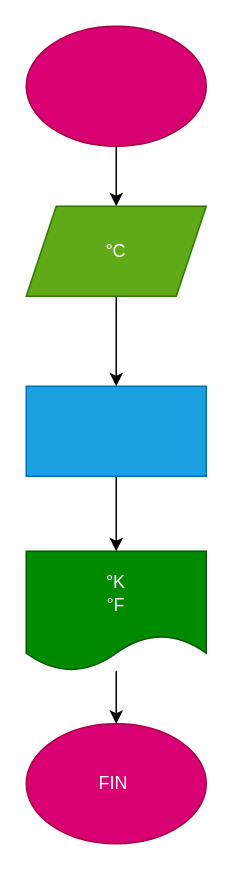
This 233x870 diagram has some shape labels left out. Each missing label, with the centre of its shape:
"INICIO" belongs at (115,85).
"°K = ºC + 273.15 ºF = ºC x 1.8 + 32" belongs at (115,430).
